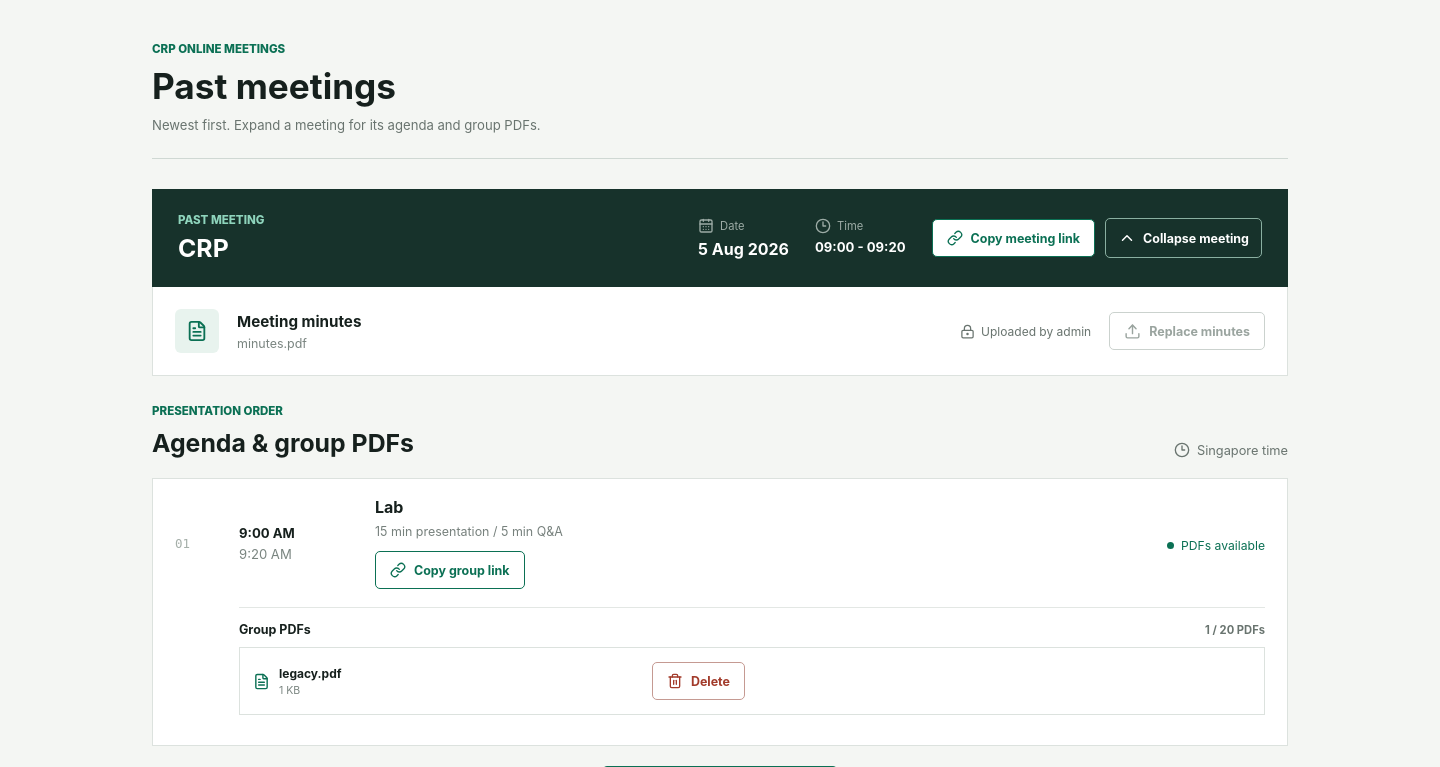
Test: administrator file deletion › requires confirmation for legacy PDFs and shows failed deletion without removing the file
Click the button with aria-label "Remove legacy.pdf" at (698, 681), box [652,662,745,700]
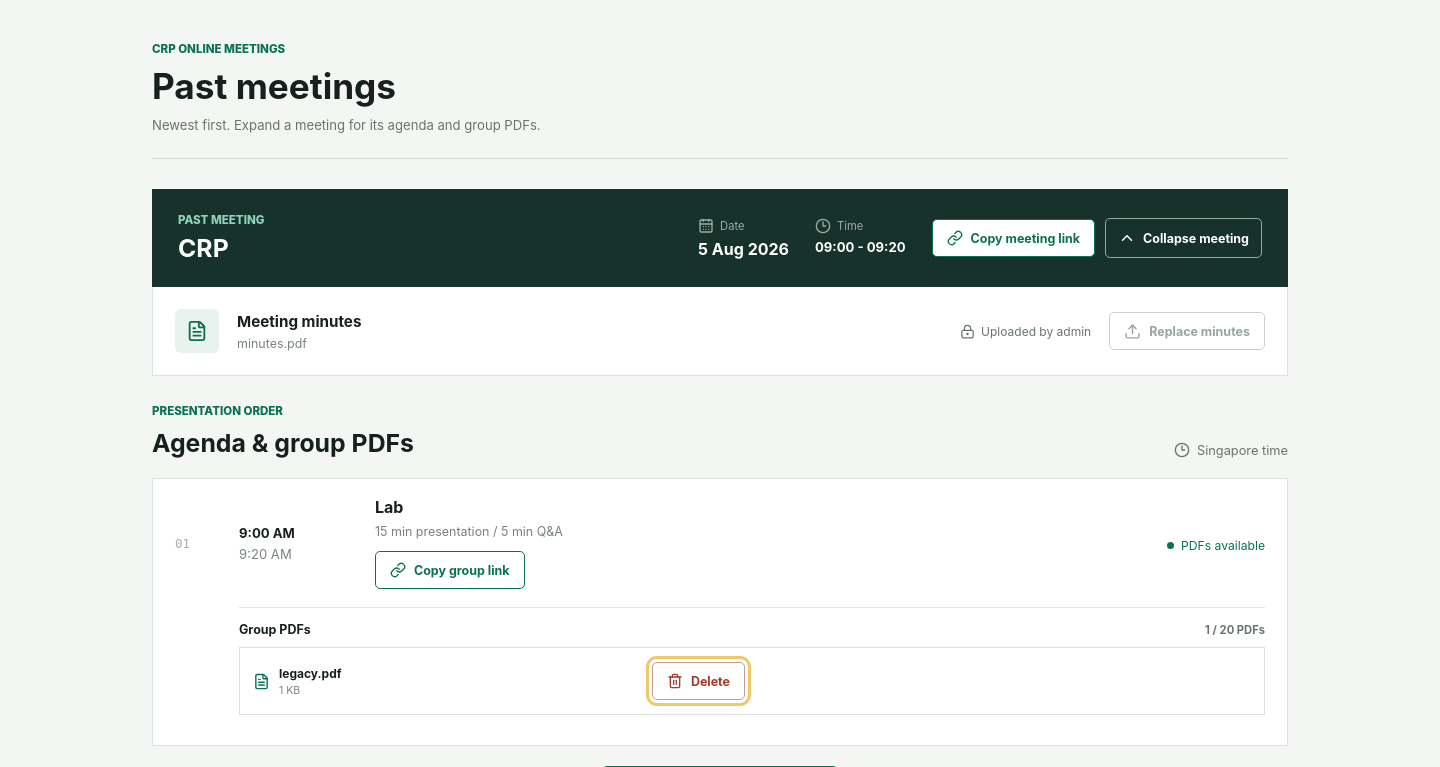
Click the button with aria-label "Remove legacy.pdf" at (698, 681), box [652,662,745,700]
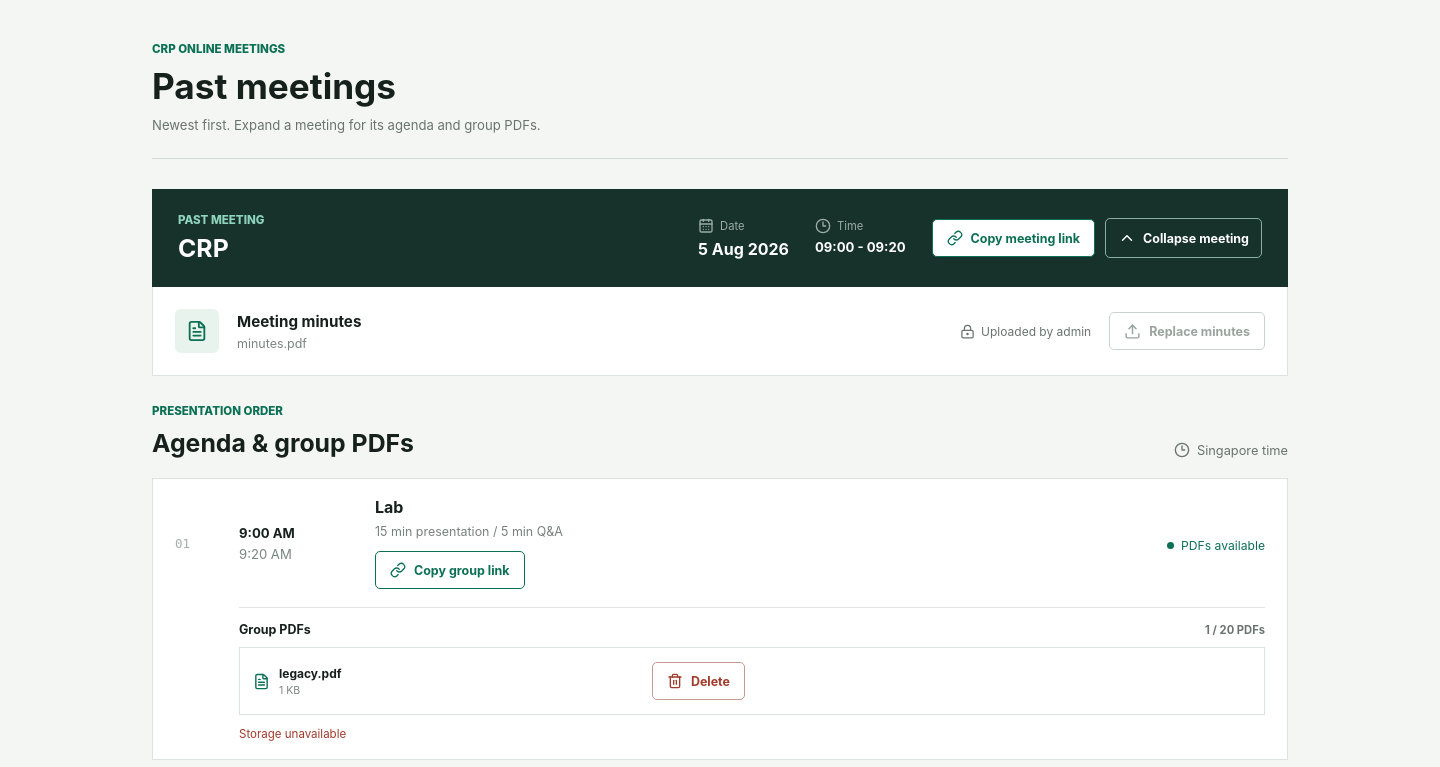
Expected: the text "legacy.pdf" is shown, [279,666,342,681]
Expected: the message reads "Storage unavailable", [239,727,346,741]
Click the button with aria-label "Remove legacy.pdf" at (698, 681), box [652,662,745,700]
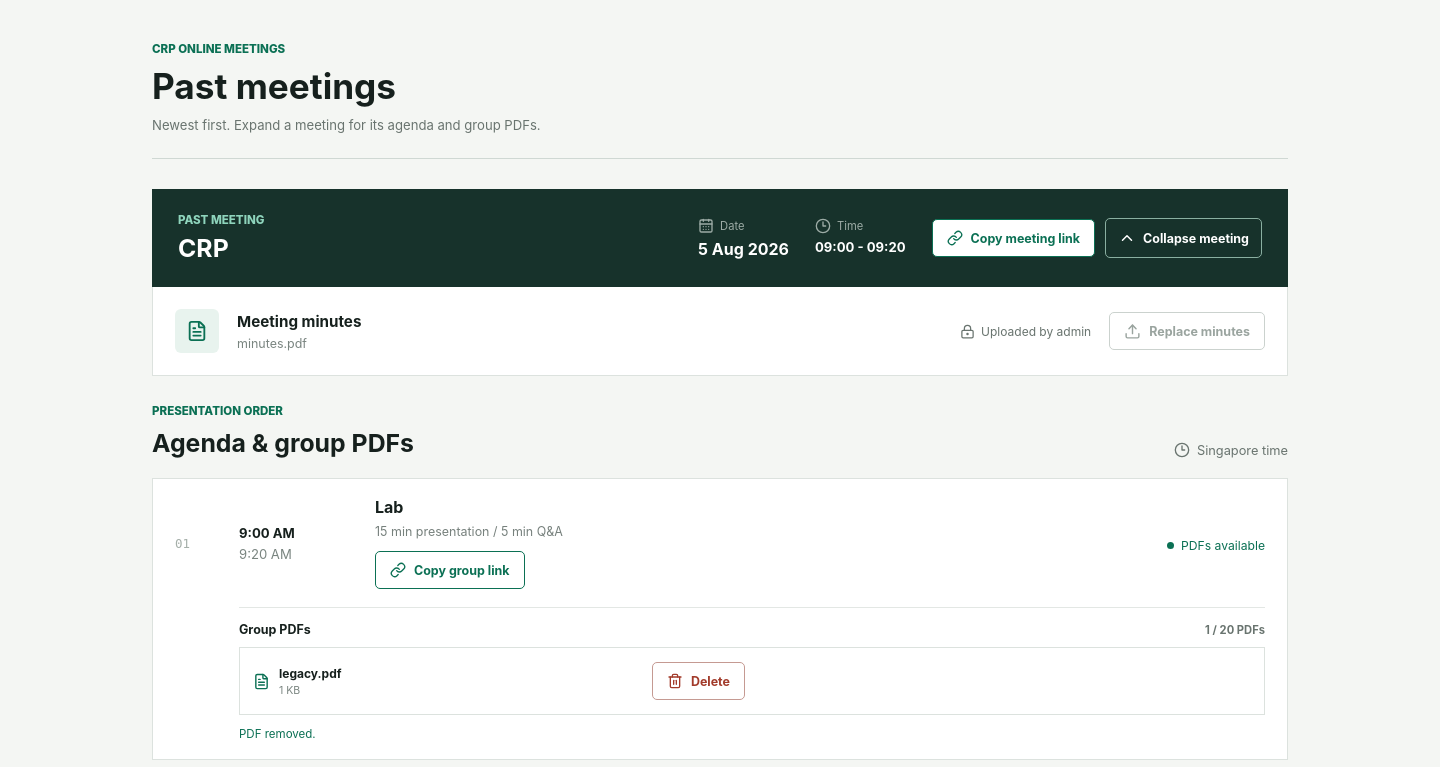
Expected: the text "PDF removed." is shown, [239,727,316,741]
